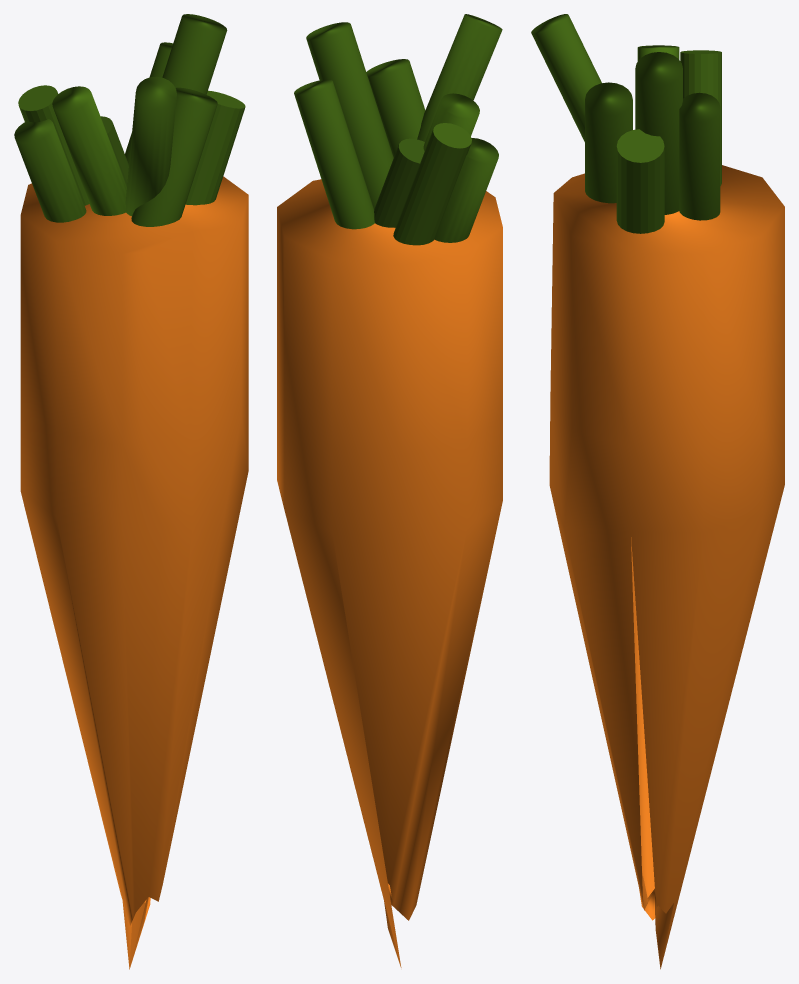
Rendered from Carrot.fbx.
The picture shows the model from 3 angles, left to right: view 1: azimuth 30°, elevation 25°; view 2: azimuth 150°, elevation 25°; view 3: azimuth 270°, elevation 25°; orthographic projection.
Visible parts, largest first — view 1: Cylinder.012; view 2: Cylinder.012; view 3: Cylinder.012.
Part boxes in pixels (box(x1,y1,x2,y2)): Cylinder.012: box(14, 14, 248, 969); Cylinder.012: box(277, 14, 502, 967); Cylinder.012: box(531, 14, 784, 969).
Bounding box in the file's own units: 190 × 817 × 199.
